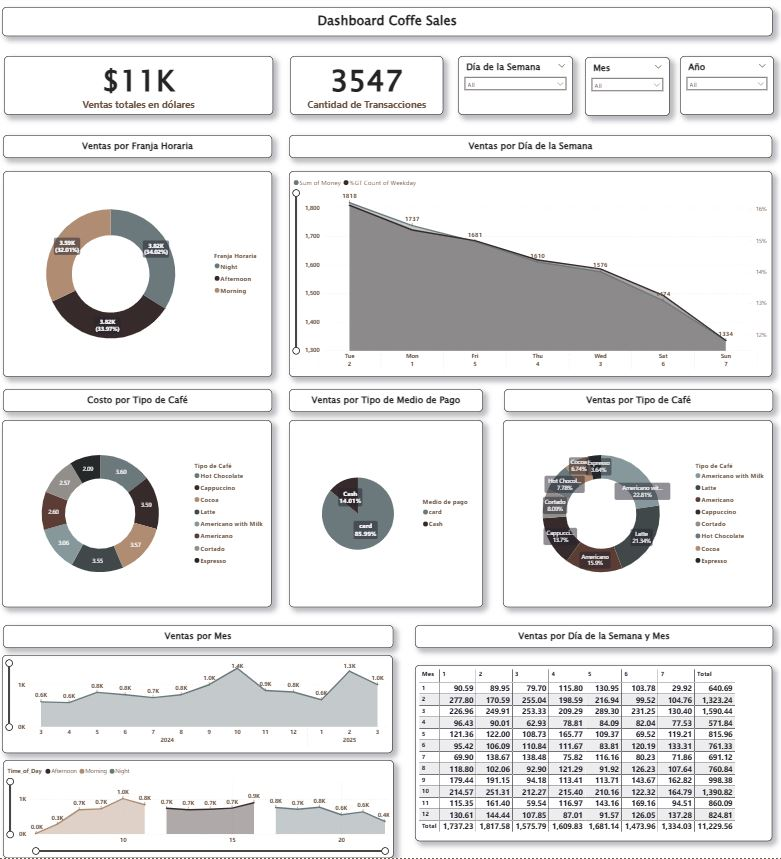

This screenshot's page, from the dashboard's own definition file:
{"tool":"powerbi","page":{"name":"Página 1","canvas":[1700,1800],"ordinal":0},"visuals":[{"type":"donutChart","fields":{"Category":["Coffe_sales.coffee_name"],"Y":["CountNonNull(Coffe_sales.coffee_name)"]},"box":[1079.9,884.4,563.2,391],"z":0},{"type":"textbox","box":[1080.7,821.5,562.2,47.7],"z":1000},{"type":"textbox","box":[633,820.8,405,48.1],"z":2000},{"type":"pieChart","fields":{"Category":["Coffe_sales.cash_type"],"Y":["CountNonNull(Coffe_sales.cash_type)"]},"box":[633,884.4,405,391],"z":3000},{"type":"lineChart","fields":{"Category":["Coffe_sales.Weekdaysort","Coffe_sales.Weekday"],"Y":["Sum(Coffe_sales.Money)"],"Y2":["Divide(CountNonNull(Coffe_sales.Weekday), ScopedEval(CountNonNull(Coffe_sales.Weekday), []))"]},"box":[633,366.2,1008.5,429.8],"z":4000},{"type":"textbox","box":[633,290.1,1008.5,48.1],"z":5000},{"type":"slicer","fields":{"Values":["Coffe_sales.Year"]},"box":[1448.7,125.7,195.5,122.6],"z":6000},{"type":"slicer","fields":{"Values":["Coffe_sales.Month_name"]},"box":[1250.1,127.2,176.9,122.6],"z":7000},{"type":"card","fields":{"Values":["Sum(Coffe_sales.Money)"]},"box":[38.3,125.7,561.7,122.6],"z":8000},{"type":"donutChart","fields":{"Category":["Coffe_sales.Time_of_Day"],"Y":["Sum(Coffe_sales.Money)"]},"box":[35.7,366.2,561.7,429.8],"z":9000},{"type":"textbox","box":[35.7,290.1,561.7,48.1],"z":10000},{"type":"pivotTable","fields":{"Values":["Sum(Coffe_sales.Money)"],"Rows":["Coffe_sales.Monthsort"],"Columns":["Coffe_sales.Weekdaysort"]},"box":[895.3,1396.4,746.3,367.7],"z":11000},{"type":"textbox","box":[895.3,1314.2,747.9,48.1],"z":12000},{"type":"donutChart","fields":{"Category":["Coffe_sales.coffee_name"],"Y":["Avg(Coffe_sales.Money)"]},"box":[34.1,884.4,563.2,391],"z":13000},{"type":"textbox","box":[35.7,820.8,561.7,48.1],"z":14000},{"type":"slicer","fields":{"Values":["Coffe_sales.Weekday"]},"box":[986.3,125.7,240.5,122.6],"z":15000},{"type":"card","fields":{"Values":["CountNonNull(Coffe_sales.cash_type)"]},"box":[635.7,125.7,319.6,122.6],"z":16000},{"type":"lineChart","fields":{"Category":["Coffe_sales.Year","Coffe_sales.Monthsort"],"Y":["Sum(Coffe_sales.Money)"]},"box":[33.4,1376.1,816.5,204.6],"z":17000},{"type":"textbox","box":[35.7,1314.2,814.6,48.1],"z":18000},{"type":"textbox","box":[34.3,23.7,1609,60.7],"z":19000},{"type":"lineChart","fields":{"Y":["Sum(Coffe_sales.Money)"],"Category":["Coffe_sales.hour_of_day"],"Series":["Coffe_sales.Time_of_Day"]},"box":[35.5,1595.4,816.5,204.6],"z":19001}]}

Visuals, with their boxes in screenshot pixels (x1, y1, x2, y2):
donutChart - Coffe_sales.coffee_name x CountNonNull(Coffe_sales.coffee_name): rect(500, 411, 765, 594)
textbox: rect(501, 381, 765, 404)
textbox: rect(291, 381, 481, 404)
pieChart - Coffe_sales.cash_type x CountNonNull(Coffe_sales.cash_type): rect(291, 411, 481, 594)
lineChart - Coffe_sales.Weekdaysort x Coffe_sales.Weekday: rect(291, 167, 764, 369)
textbox: rect(291, 132, 764, 154)
slicer - Coffe_sales.Year: rect(674, 55, 765, 112)
slicer - Coffe_sales.Month_name: rect(580, 55, 663, 113)
card - Sum(Coffe_sales.Money): rect(11, 55, 275, 112)
donutChart - Coffe_sales.Time_of_Day x Sum(Coffe_sales.Money): rect(10, 167, 274, 369)
textbox: rect(10, 132, 274, 154)
pivotTable - Sum(Coffe_sales.Money) x Coffe_sales.Monthsort: rect(414, 651, 764, 824)
textbox: rect(414, 613, 765, 635)
donutChart - Coffe_sales.coffee_name x Avg(Coffe_sales.Money): rect(9, 411, 274, 594)
textbox: rect(10, 381, 274, 404)
slicer - Coffe_sales.Weekday: rect(456, 55, 569, 112)
card - CountNonNull(Coffe_sales.cash_type): rect(292, 55, 442, 112)
lineChart - Coffe_sales.Year x Coffe_sales.Monthsort: rect(9, 642, 392, 738)
textbox: rect(10, 613, 393, 635)
textbox: rect(9, 7, 765, 35)
lineChart - Sum(Coffe_sales.Money) x Coffe_sales.hour_of_day: rect(10, 745, 393, 841)
